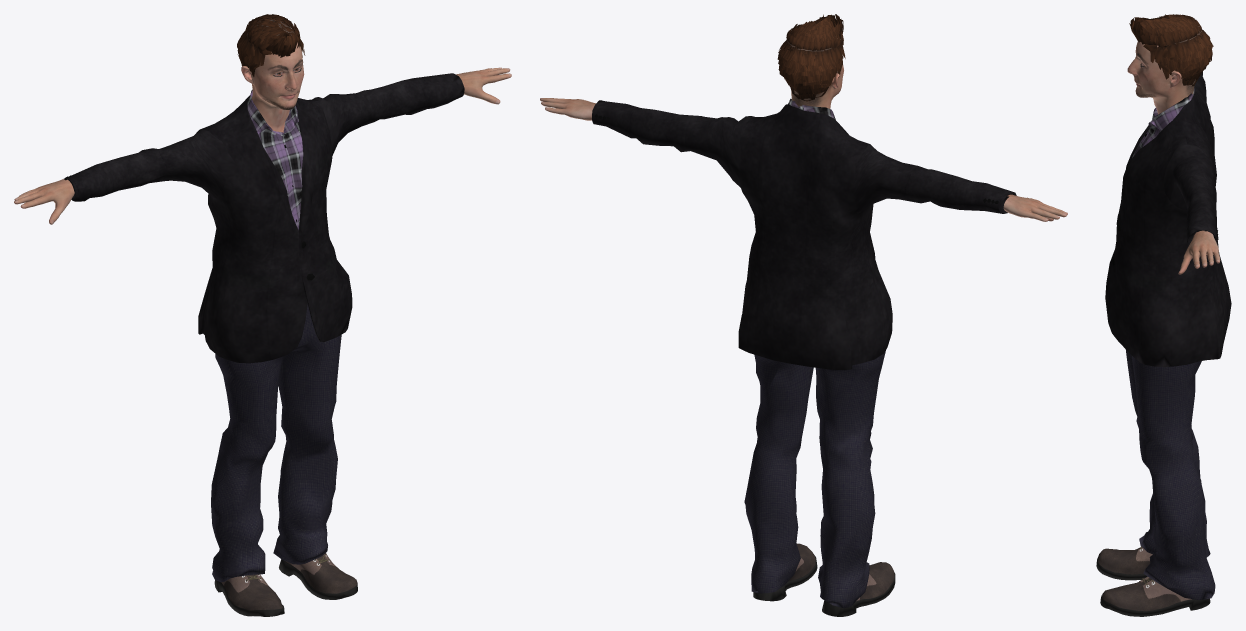
The model's file is decimated-40_BryanBussines.fbx.
The picture shows the model from 3 angles, left to right: view 1: azimuth 30°, elevation 25°; view 2: azimuth 150°, elevation 25°; view 3: azimuth 270°, elevation 25°; orthographic projection.
Parts seen in each view (by area): view 1: Tops, Bottoms, Body, Shoes, Hair; view 2: Tops, Bottoms, Hair, Body, Shoes; view 3: Tops, Bottoms, Shoes, Hair, Body.
Boxes of the visible parts, x1,y1,x2,y2 form: Tops: [64, 73, 464, 363]; Bottoms: [211, 304, 341, 582]; Body: [14, 19, 511, 224]; Shoes: [214, 553, 357, 616]; Hair: [237, 14, 305, 76]; Tops: [592, 98, 1016, 370]; Bottoms: [744, 350, 885, 608]; Hair: [777, 14, 845, 101]; Body: [540, 36, 1067, 221]; Shoes: [753, 543, 895, 616]; Tops: [1105, 72, 1231, 367]; Bottoms: [1125, 349, 1215, 600]; Shoes: [1096, 546, 1210, 616]; Hair: [1129, 14, 1213, 86]; Body: [1127, 30, 1220, 274].
Bounding box in the file's own units: 17441 × 18601 × 3984.
